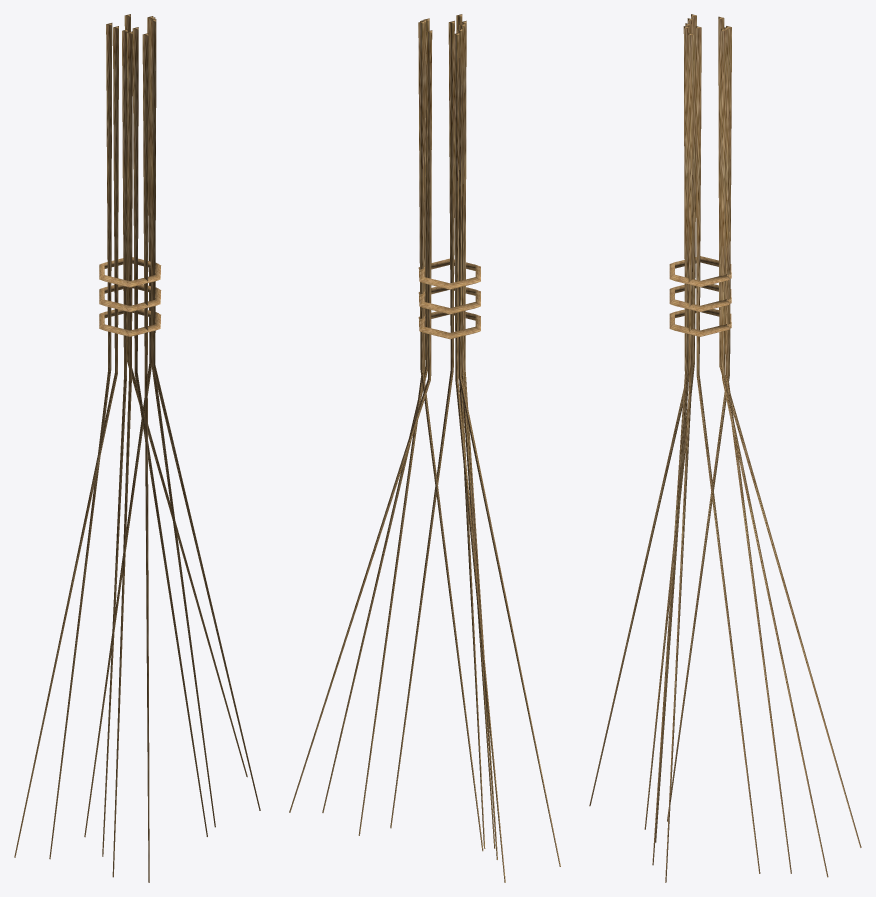
Rendered from prop_jharu_lod2.glb.
3 renders of one model, left to right at view 1: azimuth 30°, elevation 25°; view 2: azimuth 150°, elevation 25°; view 3: azimuth 330°, elevation 25°, orthographic.
Visible parts, largest first — view 1: prop_jharu; view 2: prop_jharu; view 3: prop_jharu.
Boxes of the visible parts, x1,y1,x2,y2 form: prop_jharu: (14,14,260,882); prop_jharu: (289,14,560,882); prop_jharu: (589,14,861,882).
Size of the model in its own units: 0.2208 by 0.7 by 0.0737.
Materials: 2 (2 with a texture image).
